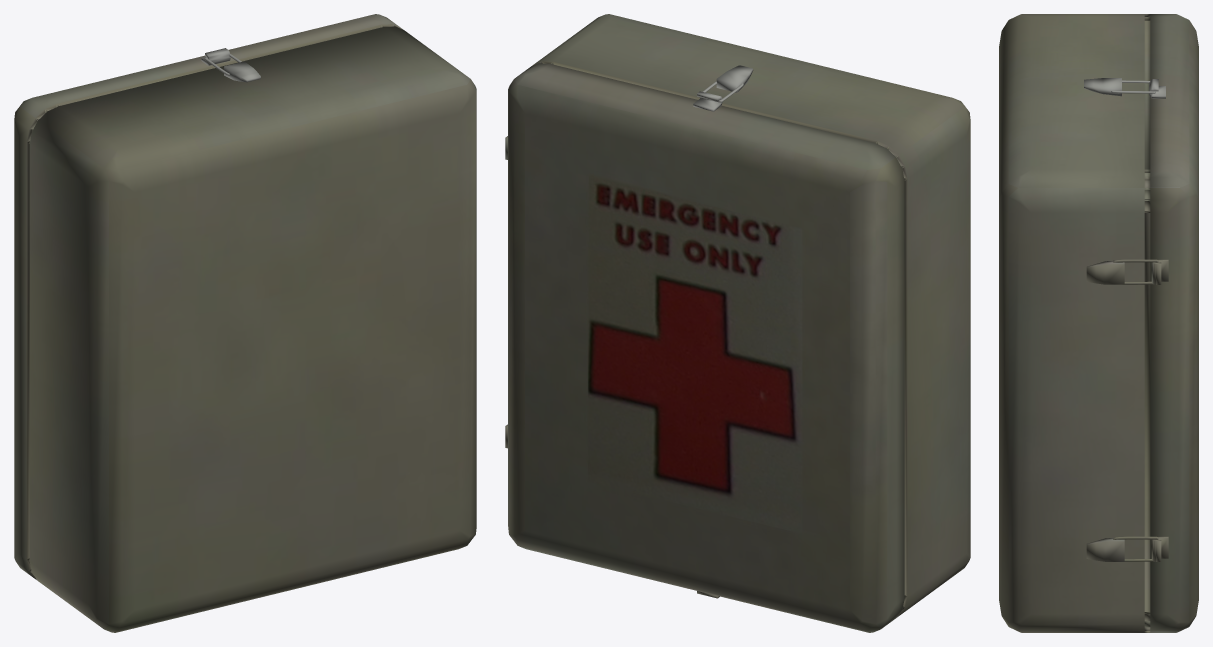
File: firstaid_kit.obj
3 renders of one model, left to right at view 1: azimuth 30°, elevation 25°; view 2: azimuth 150°, elevation 25°; view 3: azimuth 270°, elevation 25°, orthographic. The views are drawn at different scales.
Visible parts, largest first — view 1: firstaid_kit.obj; view 2: firstaid_kit.obj; view 3: firstaid_kit.obj.
Boxes of the visible parts, left/top/right/bottom form: firstaid_kit.obj: left=14, top=14, right=476, bottom=632; firstaid_kit.obj: left=505, top=14, right=970, bottom=632; firstaid_kit.obj: left=999, top=14, right=1198, bottom=632.
Size of the model in its own units: 5 by 6.08 by 2.29.
